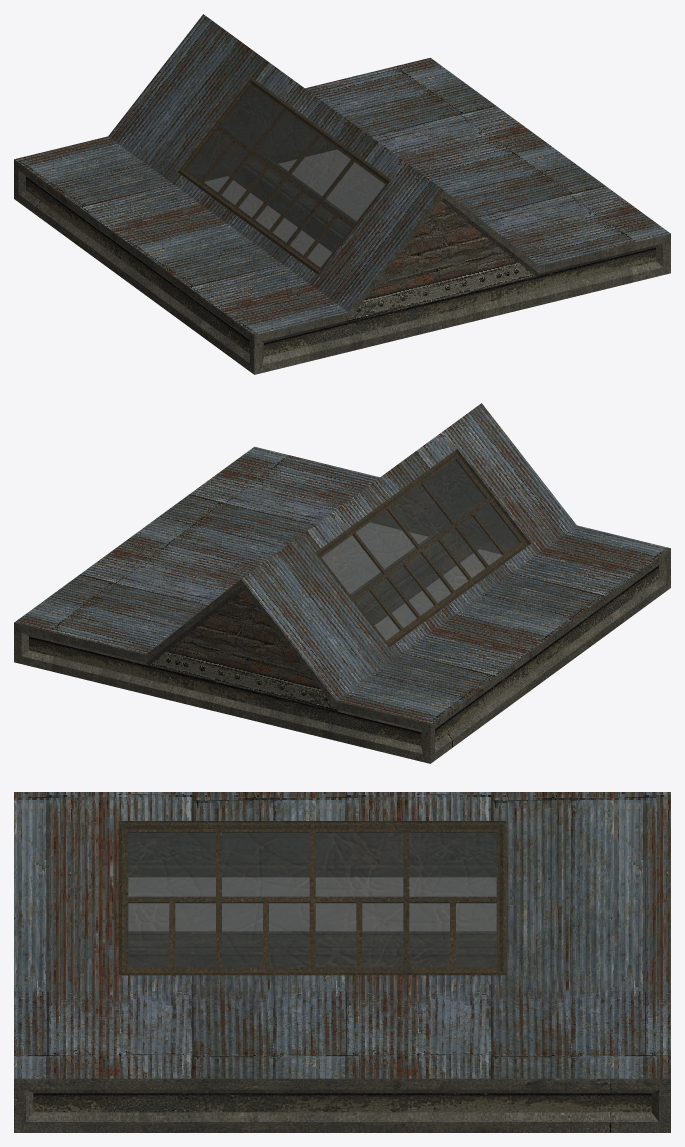
The model's file is roof_bx_1_corner_2.glb.
3 views of the same model, one above another, from view 1: azimuth 30°, elevation 25°; view 2: azimuth 150°, elevation 25°; view 3: azimuth 270°, elevation 25° (orthographic). The views are drawn at different scales.
Parts seen in each view (by area): view 1: roof_bx_1_corner_2; view 2: roof_bx_1_corner_2; view 3: roof_bx_1_corner_2.
Part boxes in pixels (x1=…): roof_bx_1_corner_2: x1=14, y1=14, x2=670, y2=374; roof_bx_1_corner_2: x1=14, y1=403, x2=670, y2=763; roof_bx_1_corner_2: x1=14, y1=792, x2=670, y2=1132.
Bounding box in the file's own units: 4.4 × 1.4 × 4.4.
Materials: 5 (5 with a texture image).
